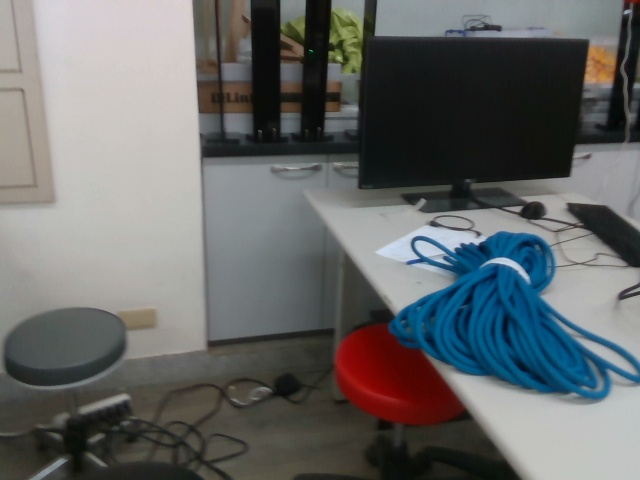rope: (385, 231, 640, 403)
